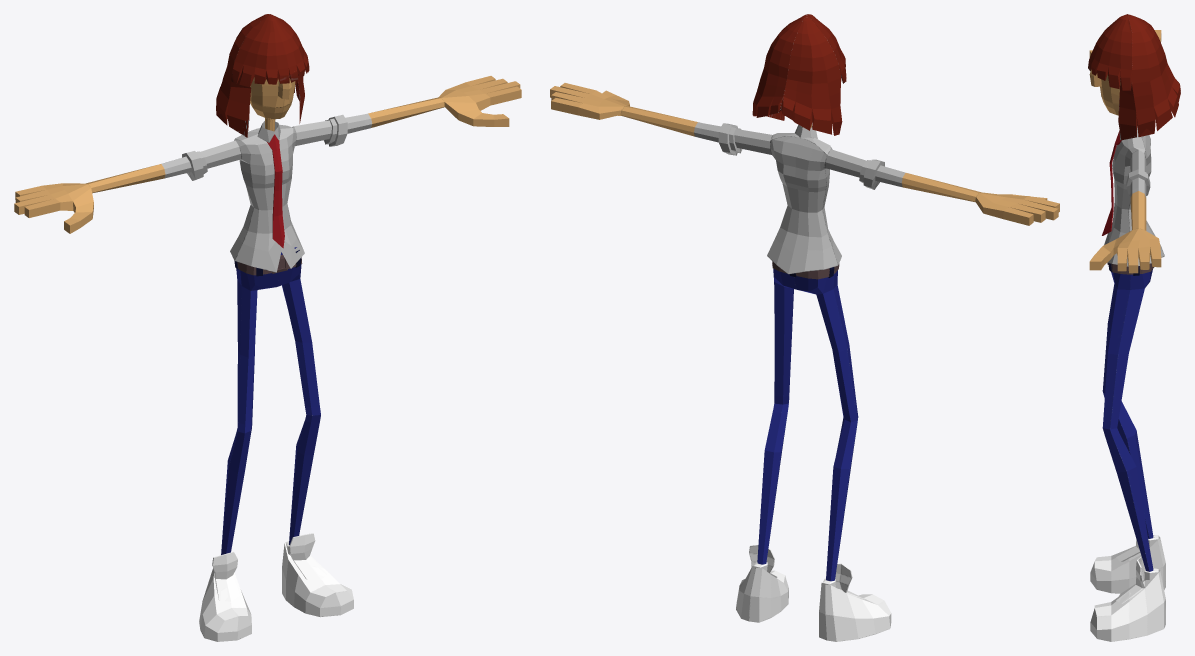
Rendered from Female_Default.fbx.
3 views of the same model, side by side, from view 1: azimuth 30°, elevation 25°; view 2: azimuth 150°, elevation 25°; view 3: azimuth 270°, elevation 25° (orthographic).
Visible parts, largest first — view 1: Torso, Legs, Hair, Head; view 2: Legs, Torso, Hair; view 3: Legs, Hair, Torso, Head.
Boxes of the visible parts, left/top/right/bottom form: Torso: left=14, top=76, right=521, bottom=272; Legs: left=199, top=247, right=353, bottom=641; Hair: left=216, top=14, right=309, bottom=137; Head: left=250, top=77, right=295, bottom=131; Legs: left=736, top=261, right=891, bottom=641; Torso: left=550, top=83, right=1059, bottom=274; Hair: left=752, top=14, right=846, bottom=135; Legs: left=1090, top=263, right=1165, bottom=641; Hair: left=1088, top=14, right=1180, bottom=140; Torso: left=1089, top=30, right=1164, bottom=273; Head: left=1089, top=69, right=1120, bottom=115.
Bounding box in the file's own units: 17.18 × 19.64 × 2.79.
2 materials, 2 textured.
